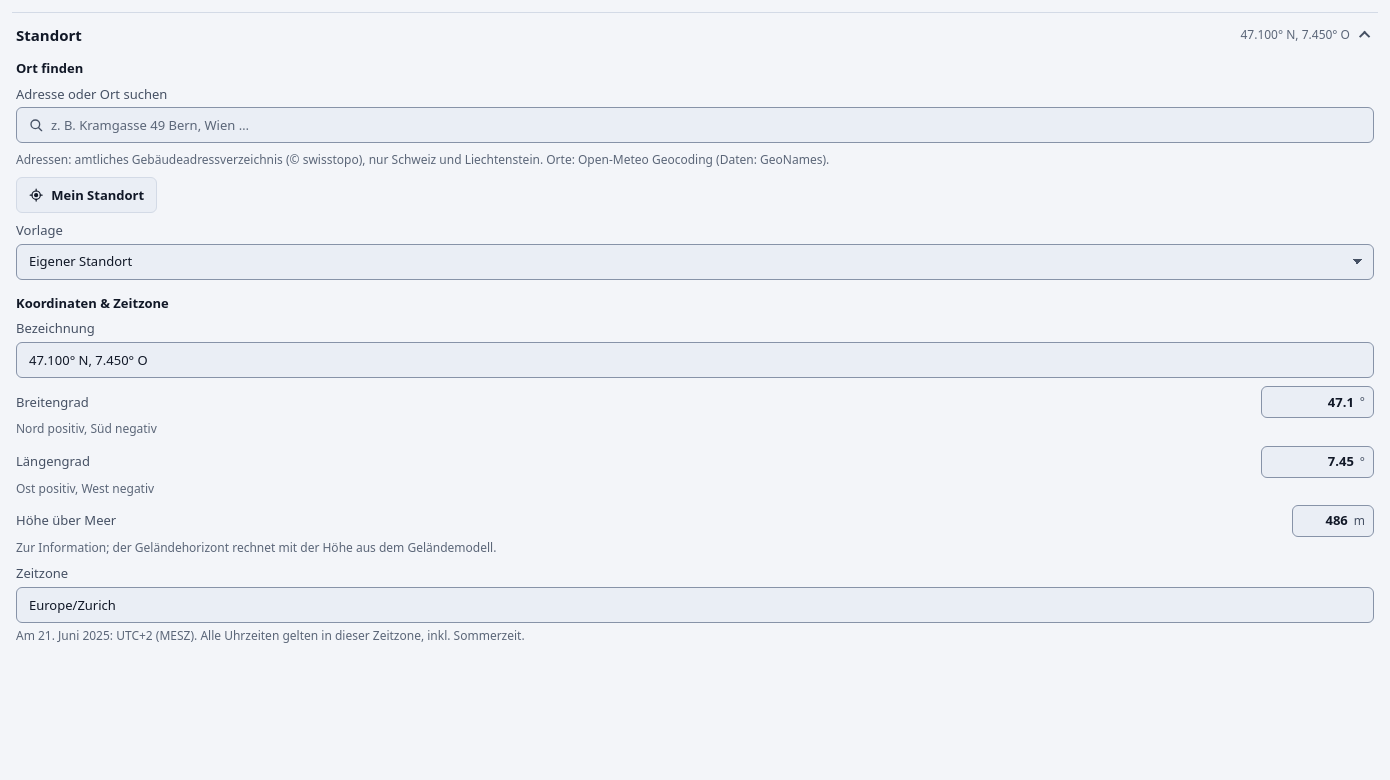
Test: LocationSection › my location › another location while the nearest address is looked up › a preset: the late reply does not overwrite it; the offer works again afterwards
Click the button "Mein Standort" at (87, 195), box [16, 177, 157, 213]
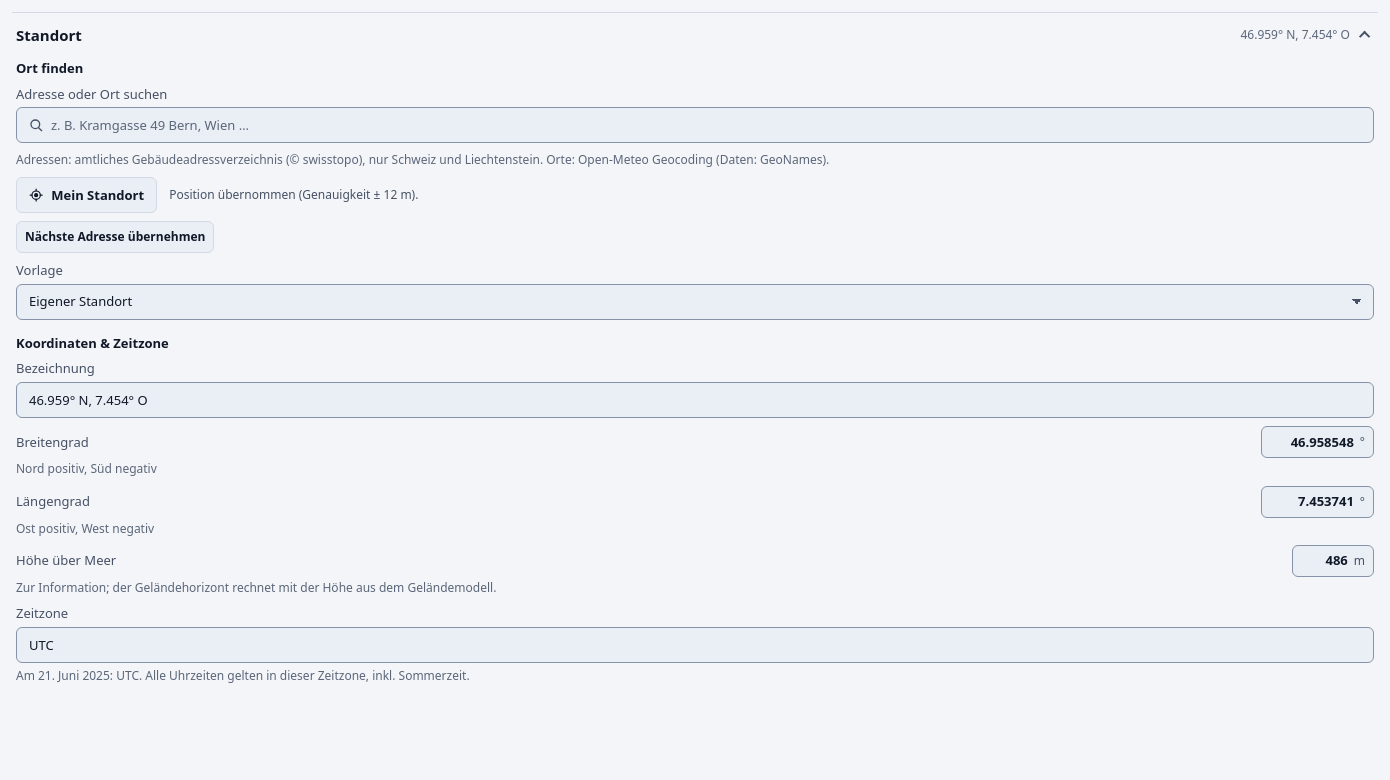
Click the button "Nächste Adresse übernehmen" at (115, 237), box [16, 221, 214, 253]
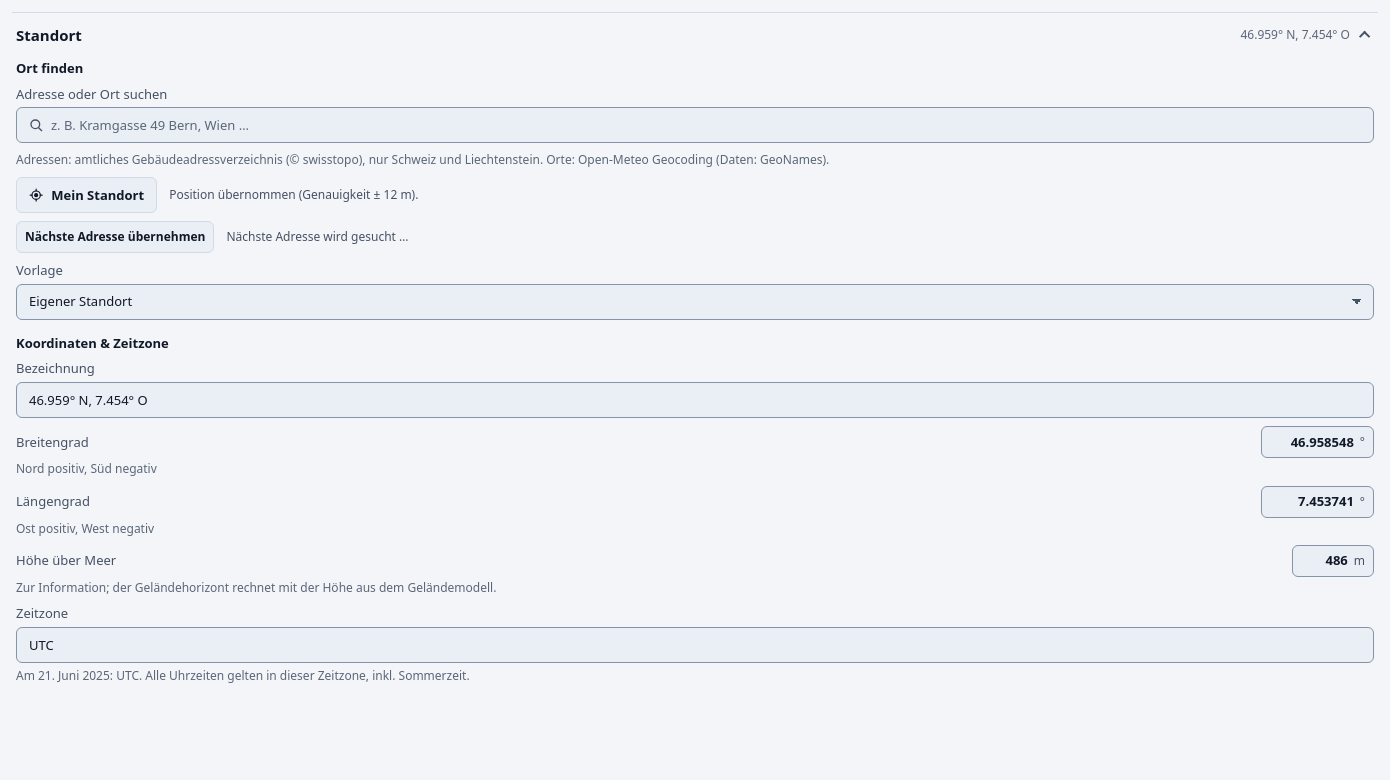
Now the text "Nächste Adresse wird gesucht …" is shown, box [226, 228, 408, 245]
Select "Zürich" in the dropdown labelled "Vorlage" at (695, 302), box [16, 284, 1374, 320]
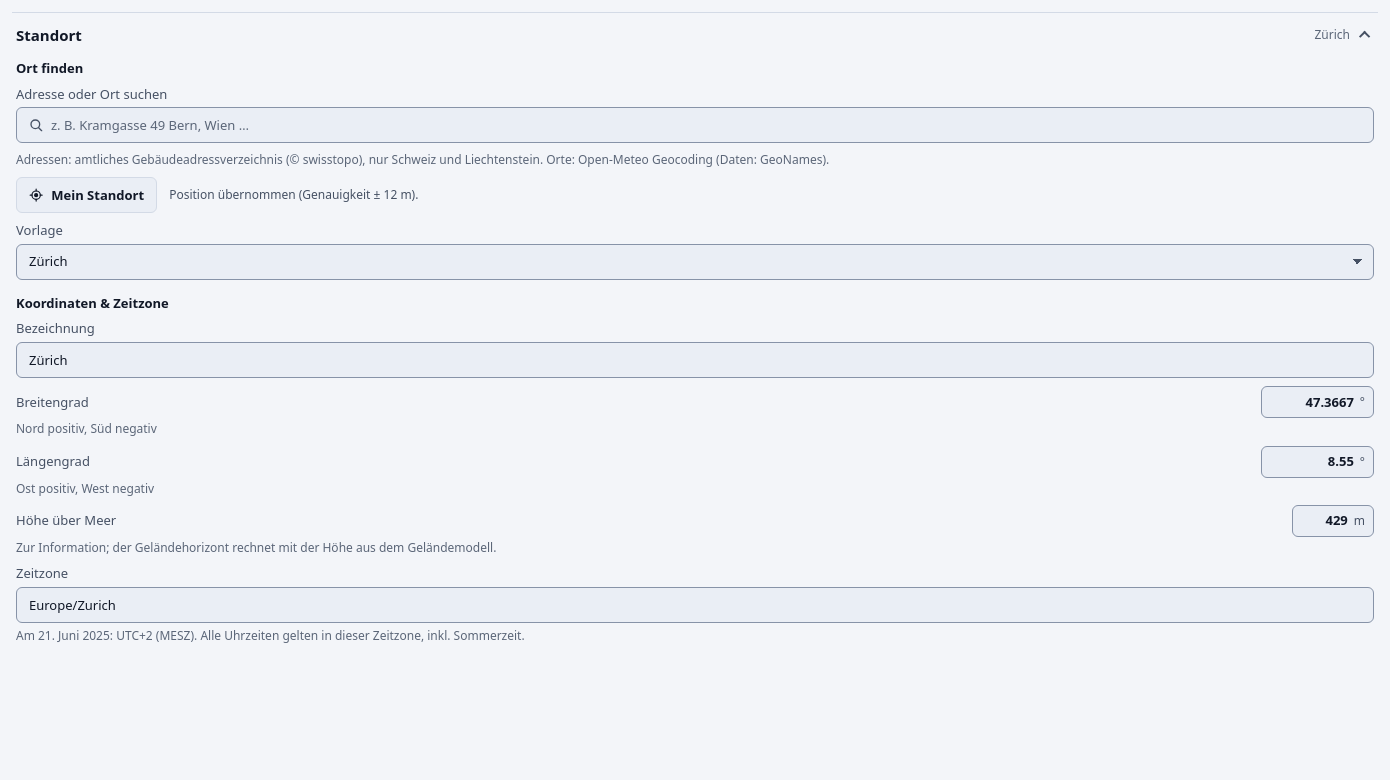
Expected: the text "Übernommen: Breitenrainplatz" is not shown
Now the text "Zürich" is shown, box [1314, 26, 1350, 43]
Now the text "Nächste Adresse wird gesucht …" is gone
Click the button "Mein Standort" at (87, 195), box [16, 177, 157, 213]
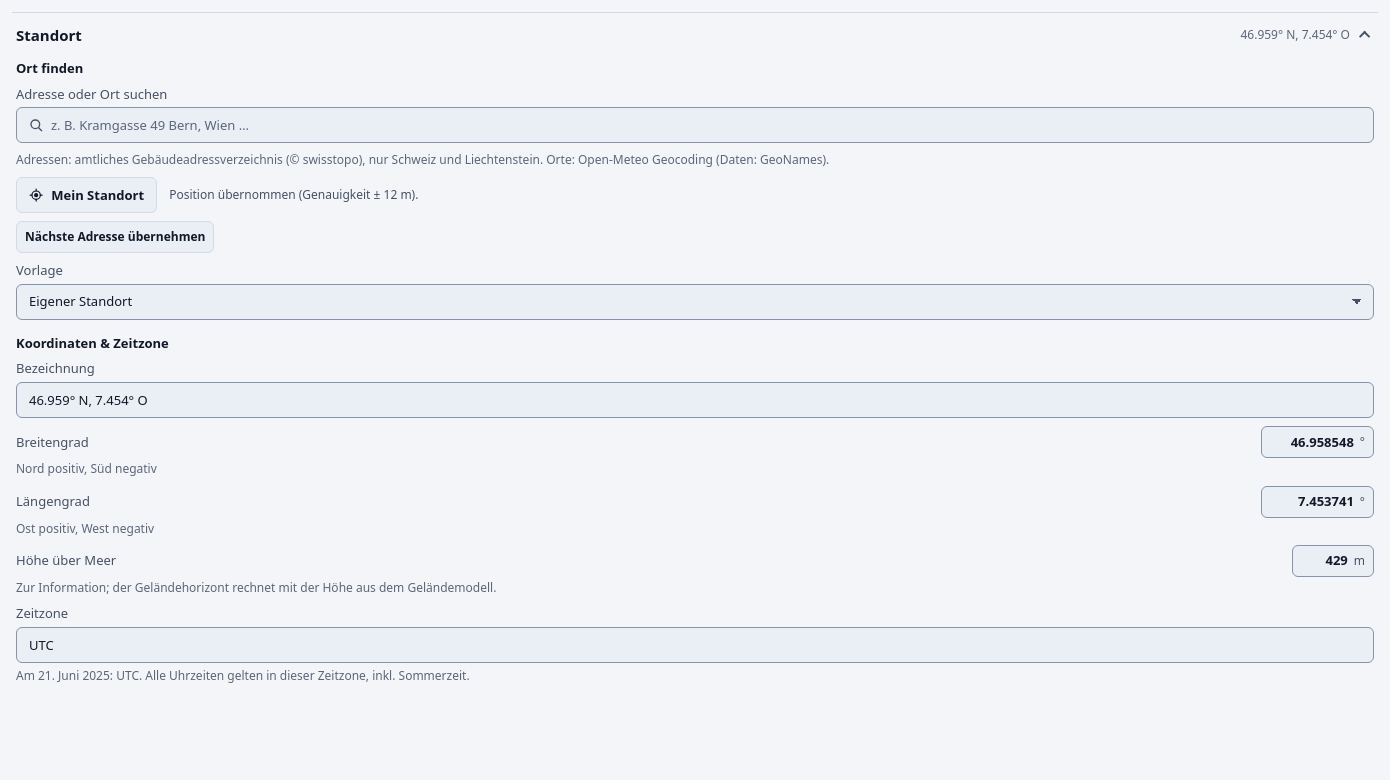
Click the button "Nächste Adresse übernehmen" at (115, 237), box [16, 221, 214, 253]
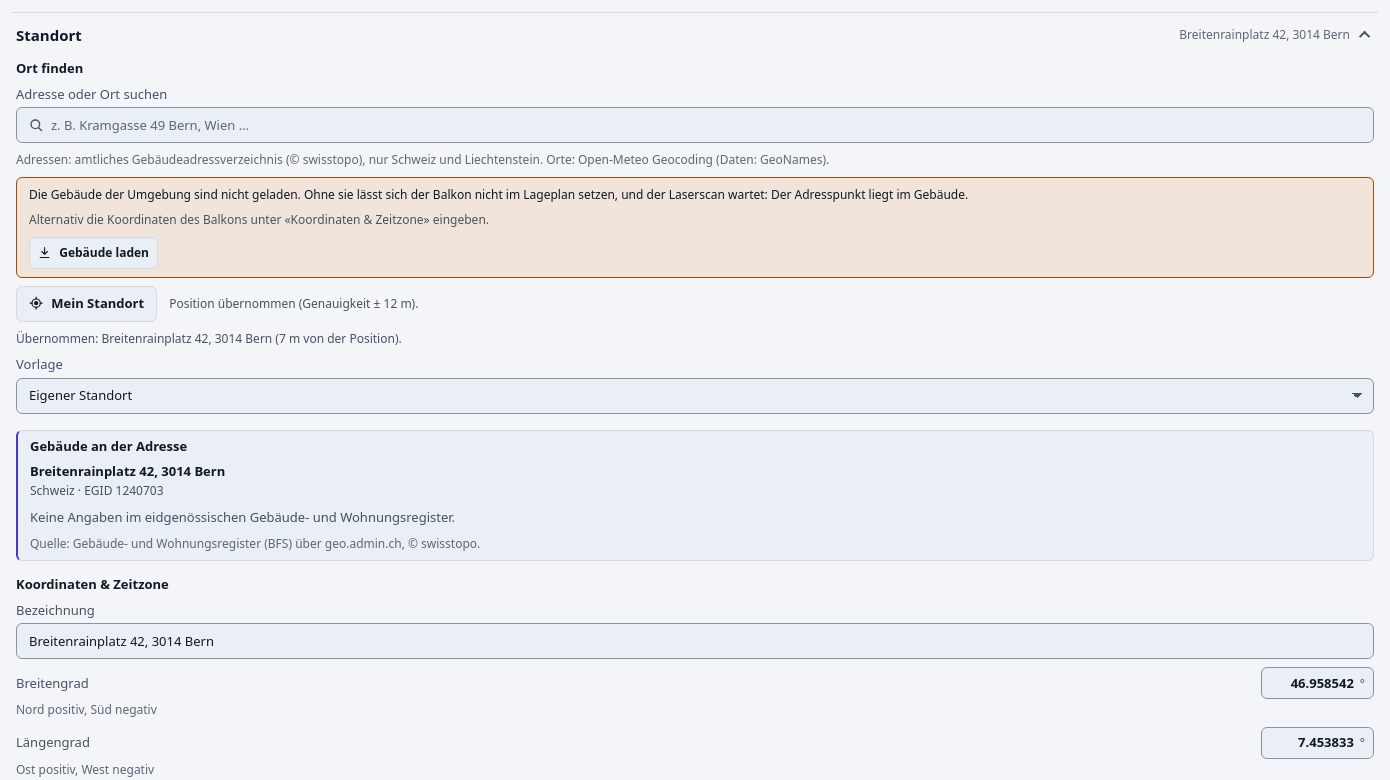
Now the text "Übernommen: Breitenrainplatz 42, 3014 Bern (7 m von der Position)." is shown, box [16, 330, 402, 347]
Now the 1st text "Breitenrainplatz 42, 3014 Bern" is shown, box [1179, 26, 1350, 43]
